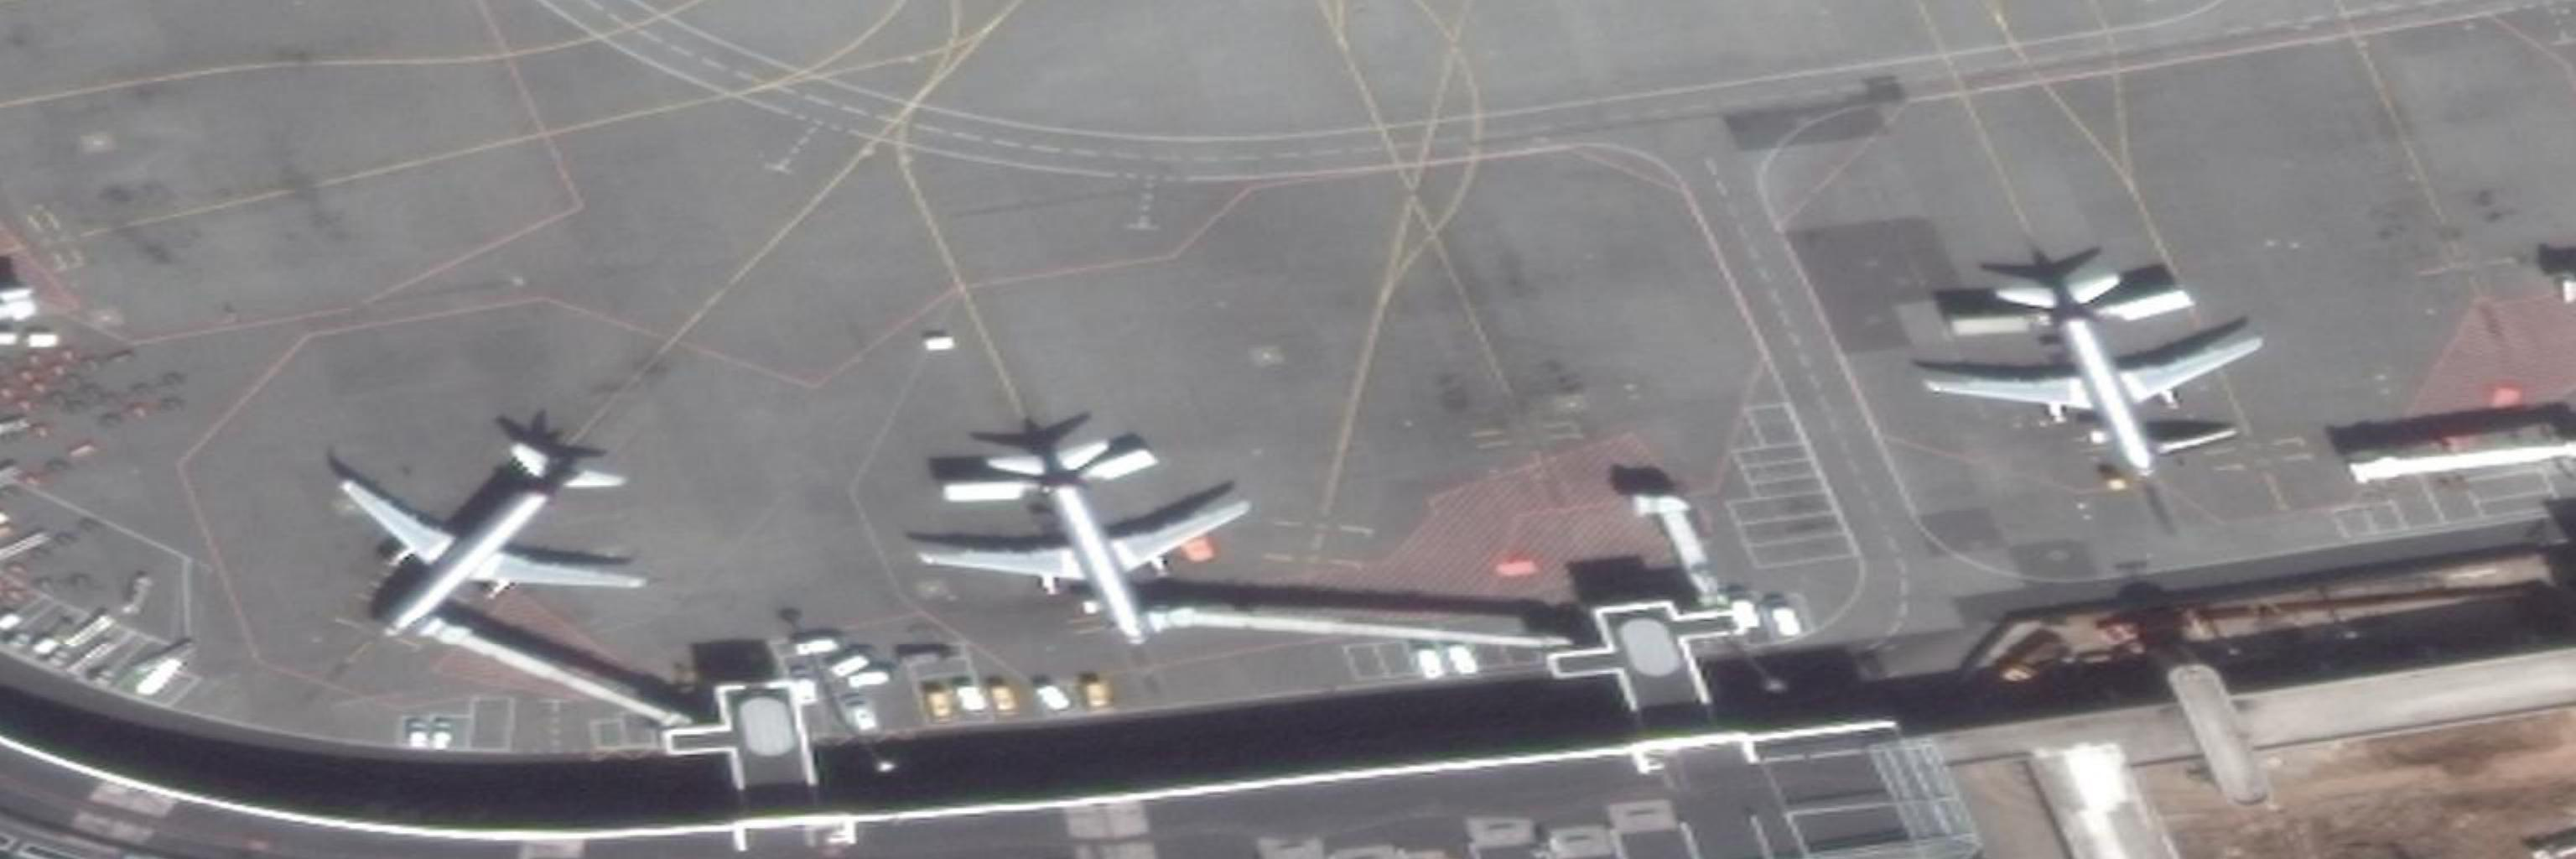plane: (287, 366, 687, 724), (894, 401, 1285, 660), (1906, 250, 2293, 494)
